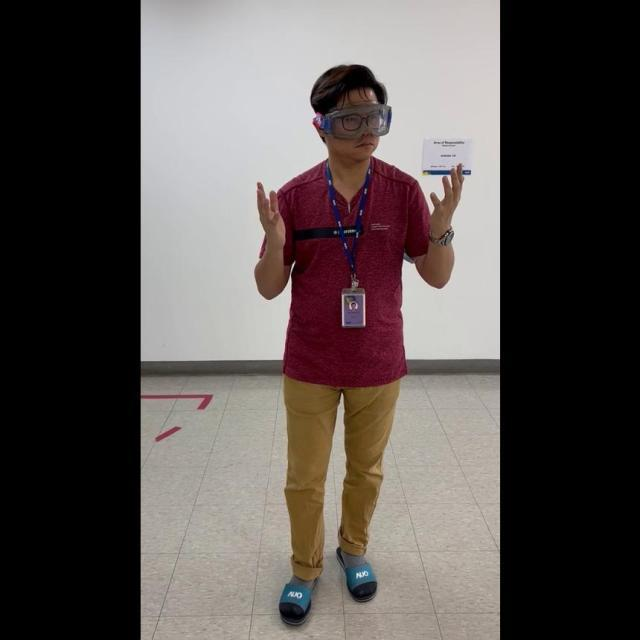bare_hand: (423, 158, 467, 242), (253, 173, 287, 252)
